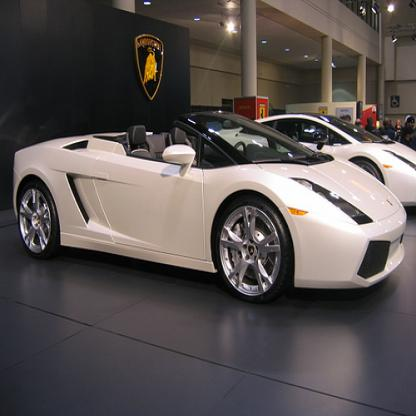car: (10, 111, 407, 302), (255, 108, 415, 205)
